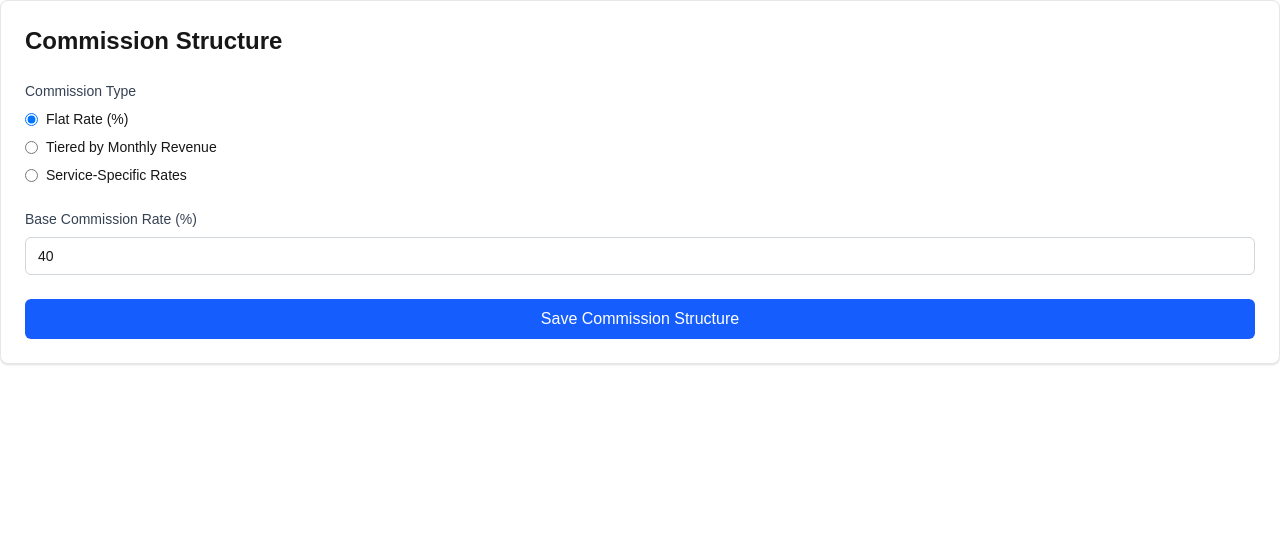
Scenario: Commission Components › CommissionRateConfig › should show tiered rules when tiered rate selected
Click the radio button labelled "Tiered by Monthly Revenue". click: (32, 147)
box: x1=25 y1=140 x2=38 y2=154
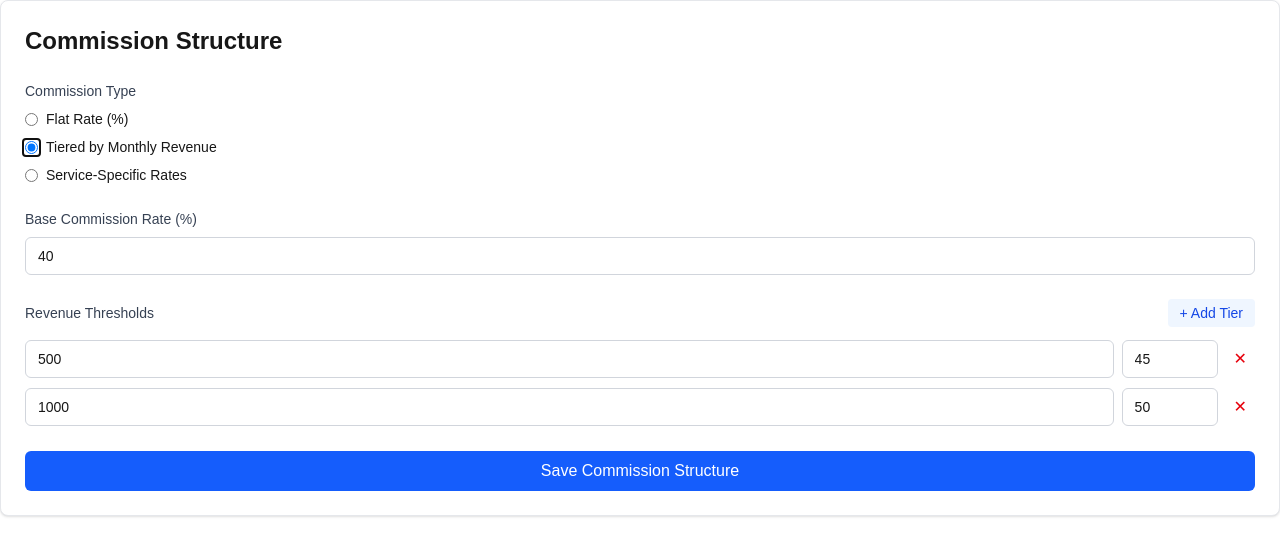
expect the text "Revenue Thresholds" is shown: met, box x1=25 y1=303 x2=154 y2=323
expect the button "+ Add Tier" is shown: met, box x1=1168 y1=299 x2=1255 y2=327
